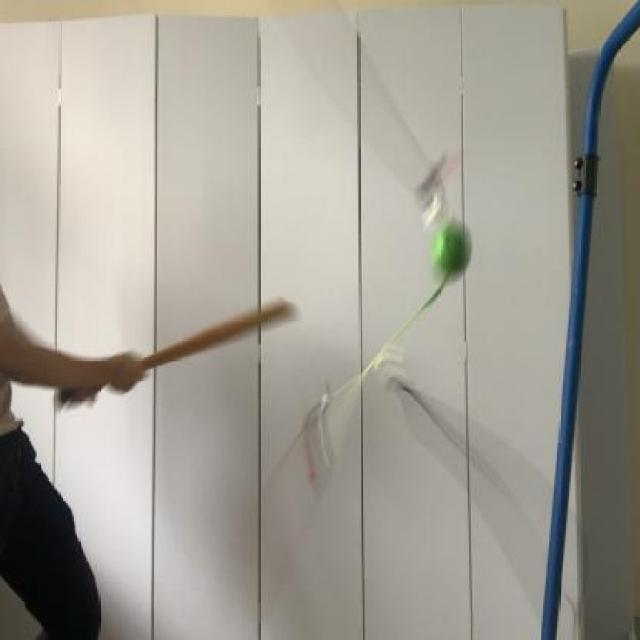baseball: (426, 216, 477, 282)
